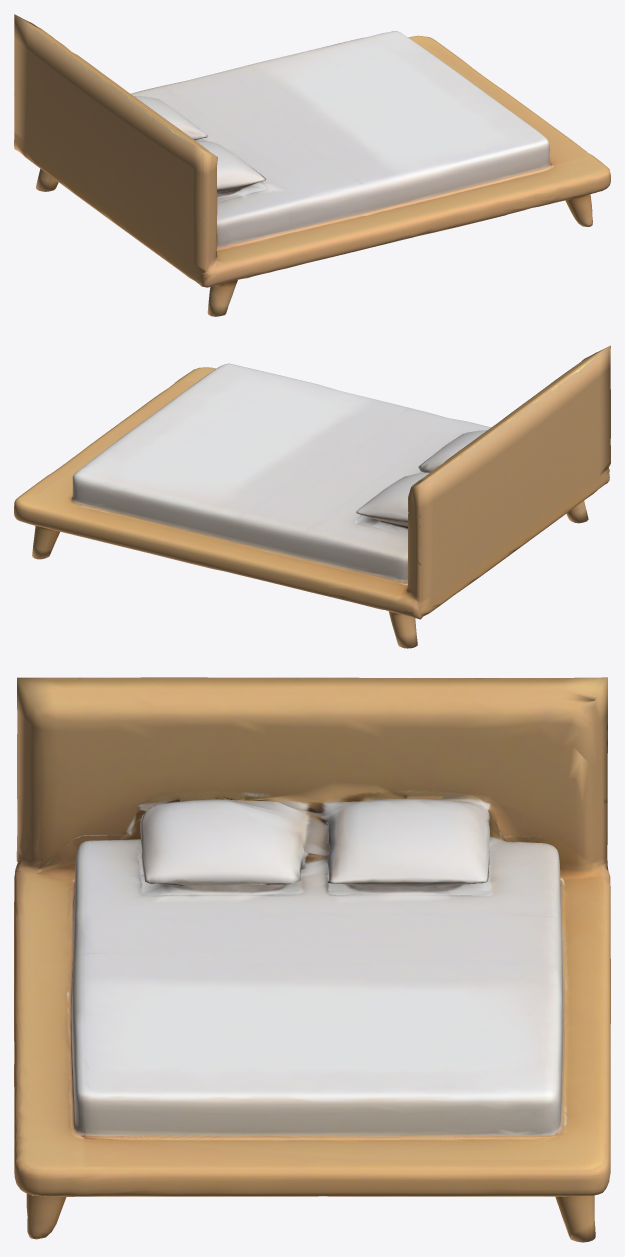
File: bed.glb
3 views of the same model, one above another, from view 1: azimuth 30°, elevation 25°; view 2: azimuth 150°, elevation 25°; view 3: azimuth 270°, elevation 25° (orthographic). The views are drawn at different scales.
Bounding box in the file's own units: 1.98 × 0.7869 × 1.6.
Materials: 1 (1 with a texture image).
